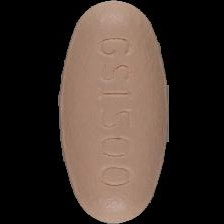61958-1001: (0, 0, 224, 224)
